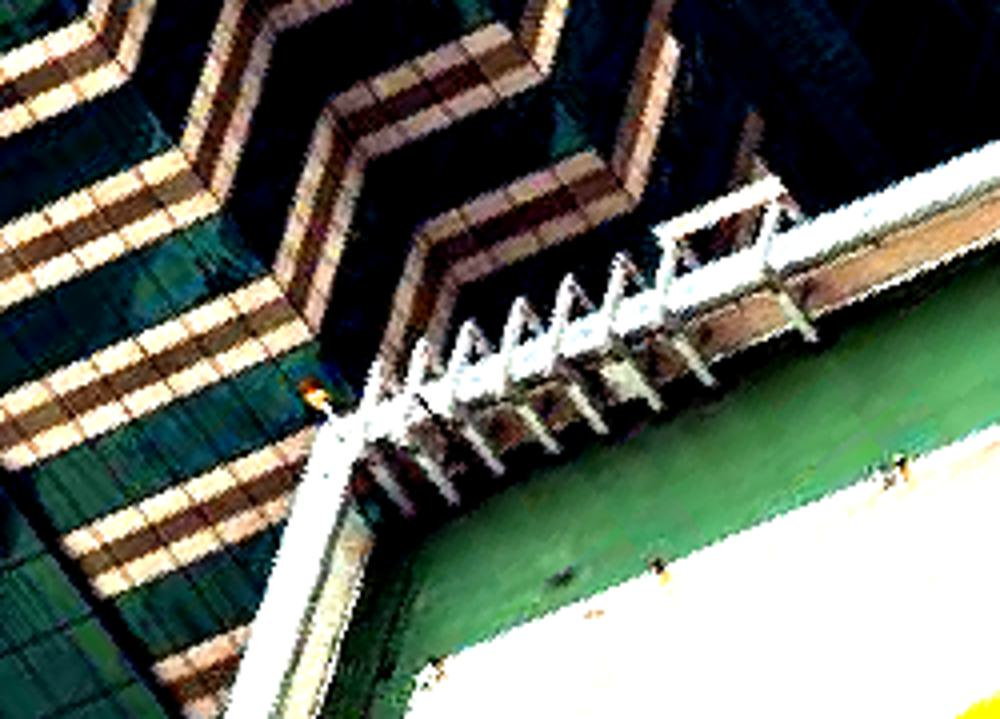Apron: (900, 654, 1000, 719)
